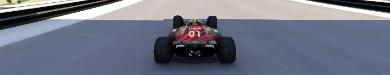Car: (152, 15, 236, 63)
